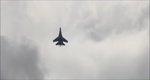maybay_muctieu: (54, 25, 68, 48)
